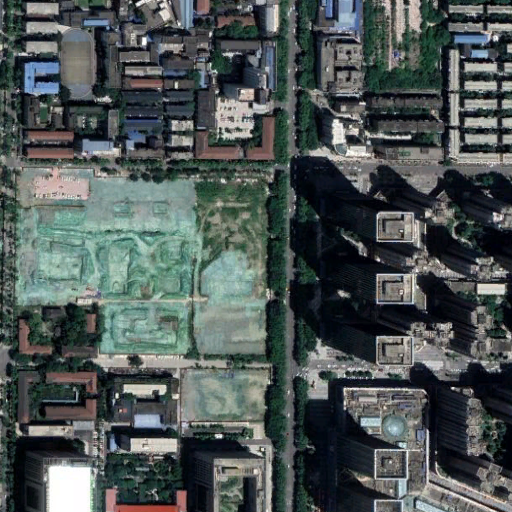cw: (18, 168, 264, 357), (181, 368, 271, 422)
